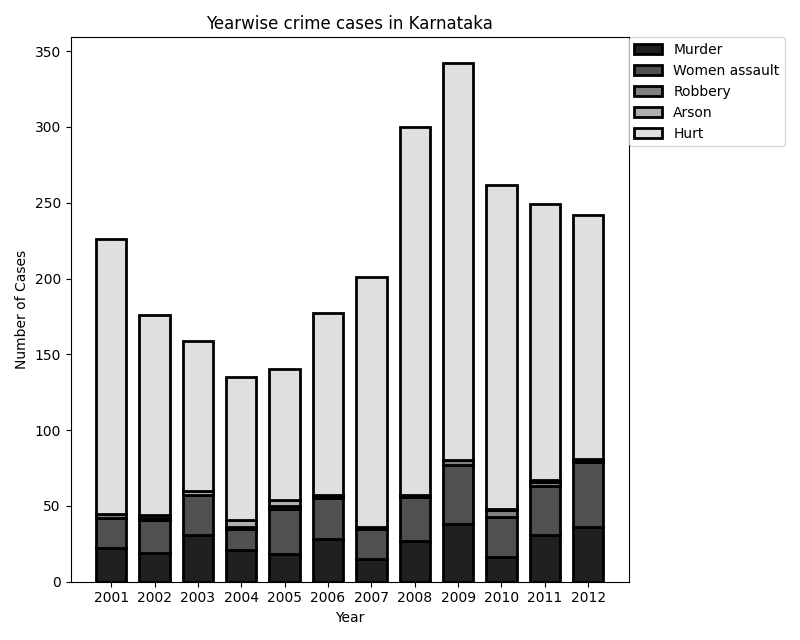canvas: (88, 55, 619, 583)
legend: (633, 39, 785, 144)
title: (200, 8, 504, 34)
x-axis: (64, 579, 639, 589)
x-labels: (87, 589, 610, 609)
x-title: (320, 608, 373, 627)
y-axis: (63, 31, 78, 587)
y-labels: (31, 41, 65, 589)
y-title: (9, 242, 29, 375)
